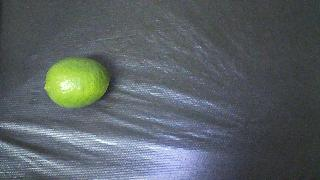LOCAL: (45, 57, 110, 108)
